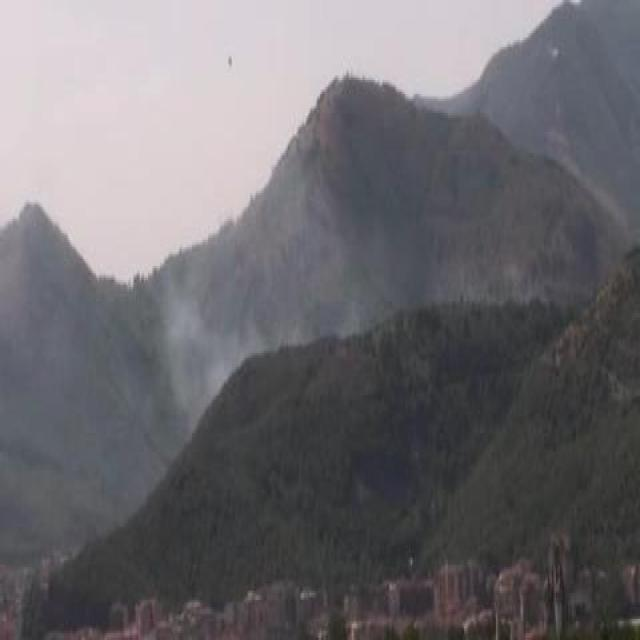Smoke: (152, 252, 264, 407)
